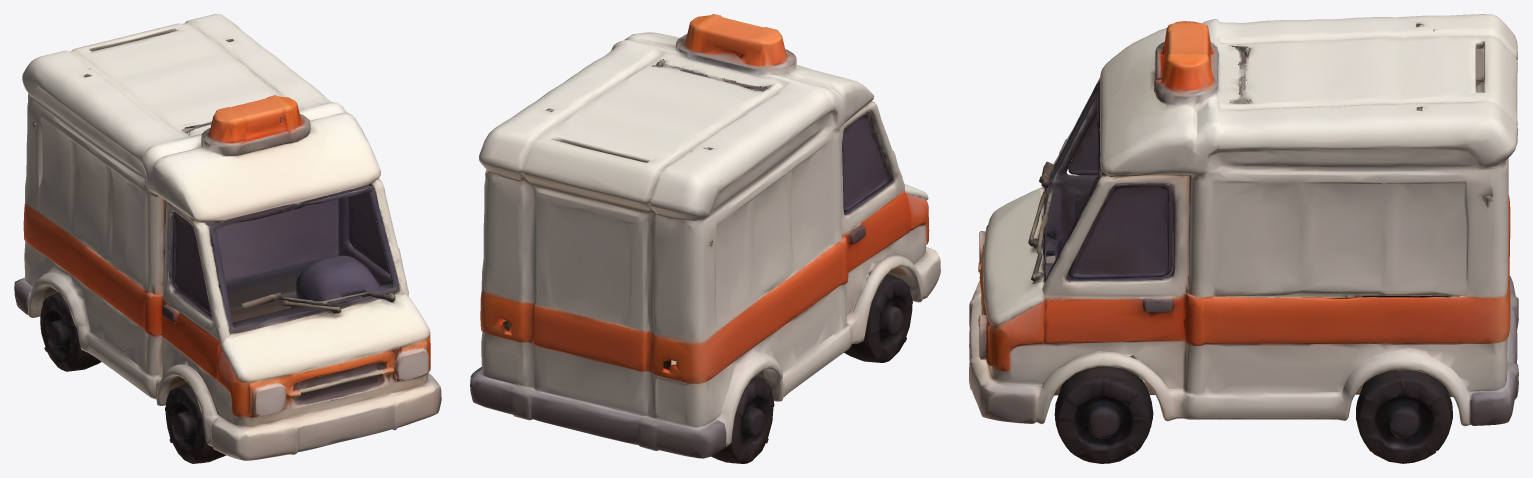
Rendered from ambulance.glb.
The picture shows the model from 3 angles, left to right: view 1: azimuth 30°, elevation 25°; view 2: azimuth 150°, elevation 25°; view 3: azimuth 270°, elevation 25°; orthographic projection. The views are drawn at different scales.
Visible parts, largest first — view 1: tripo_node_8f14311c-c7bf-4305-854f-c0348e1dee40; view 2: tripo_node_8f14311c-c7bf-4305-854f-c0348e1dee40; view 3: tripo_node_8f14311c-c7bf-4305-854f-c0348e1dee40.
Part boxes in pixels (x1,y1,x2,y2): tripo_node_8f14311c-c7bf-4305-854f-c0348e1dee40: [14, 14, 441, 463]; tripo_node_8f14311c-c7bf-4305-854f-c0348e1dee40: [470, 14, 940, 463]; tripo_node_8f14311c-c7bf-4305-854f-c0348e1dee40: [969, 14, 1518, 463].
Size of the model in its own units: 0.5611 by 0.7316 by 1.
Materials: 1 (1 with a texture image).
